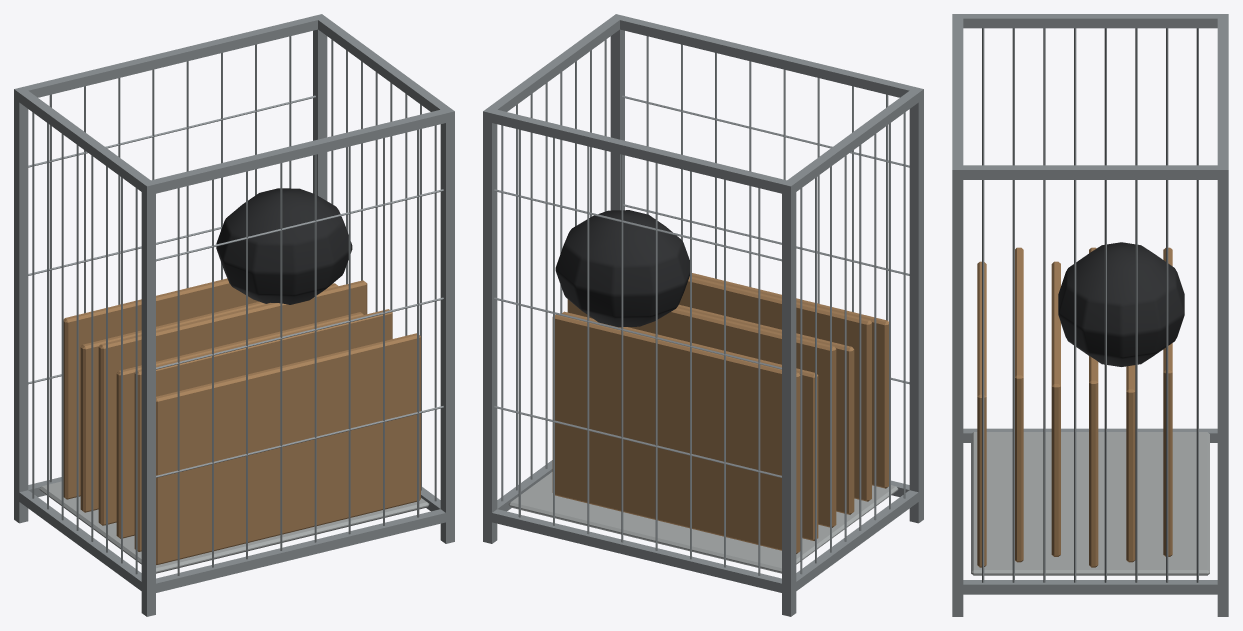
The model's file is prop_recycling_cage.glb.
The picture shows the model from 3 angles, left to right: view 1: azimuth 30°, elevation 25°; view 2: azimuth 150°, elevation 25°; view 3: azimuth 270°, elevation 25°; orthographic projection. The views are drawn at different scales.
Parts seen in each view (by area): view 1: Cage; view 2: Cage; view 3: Cage.
Boxes of the visible parts, x1,y1,x2,y2 form: Cage: (14, 14, 454, 616); Cage: (483, 14, 923, 616); Cage: (952, 14, 1228, 616).
Size of what is drawn, in the model's own units: 1.19 by 1.59 by 0.89.
